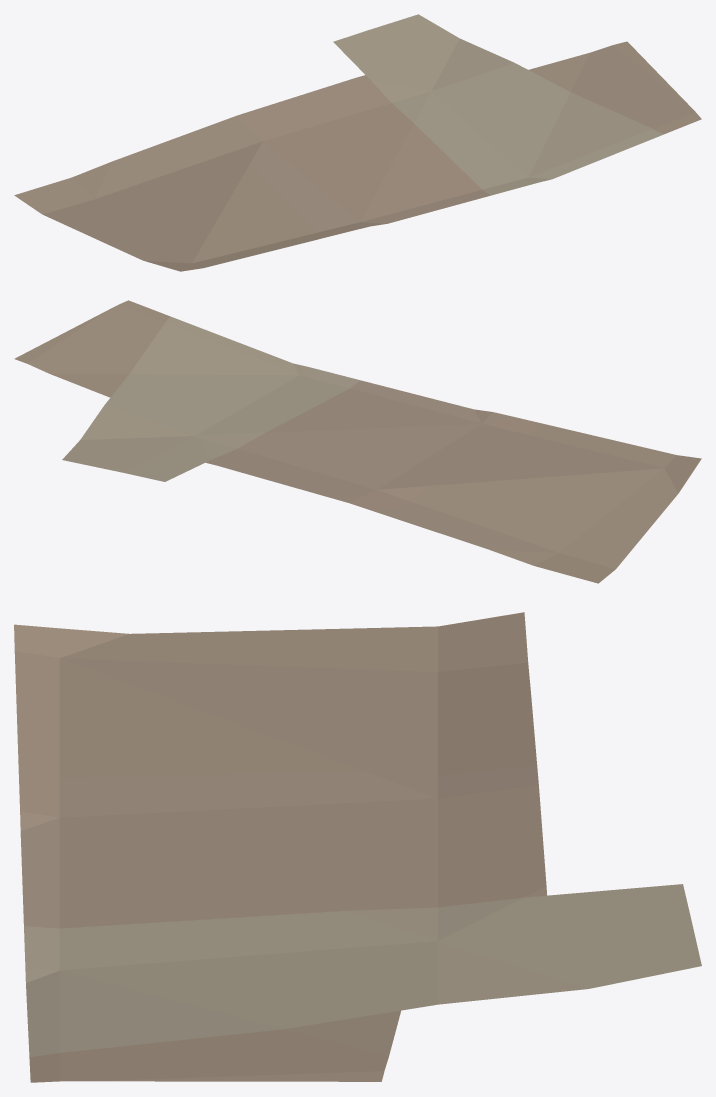
The model's file is farm_-9_5_soil.glb.
3 renders of one model, top to bottom at view 1: azimuth 30°, elevation 25°; view 2: azimuth 150°, elevation 25°; view 3: azimuth 270°, elevation 25°, orthographic. The views are drawn at different scales.
Visible parts, largest first — view 1: geometry_0; view 2: geometry_0; view 3: geometry_0.
Part boxes in pixels (box(x1,y1,x2,y2)): geometry_0: box(14, 14, 701, 271); geometry_0: box(14, 300, 701, 583); geometry_0: box(14, 612, 701, 1082).
Bounding box in the file's own units: 274 × 20.2 × 146.
